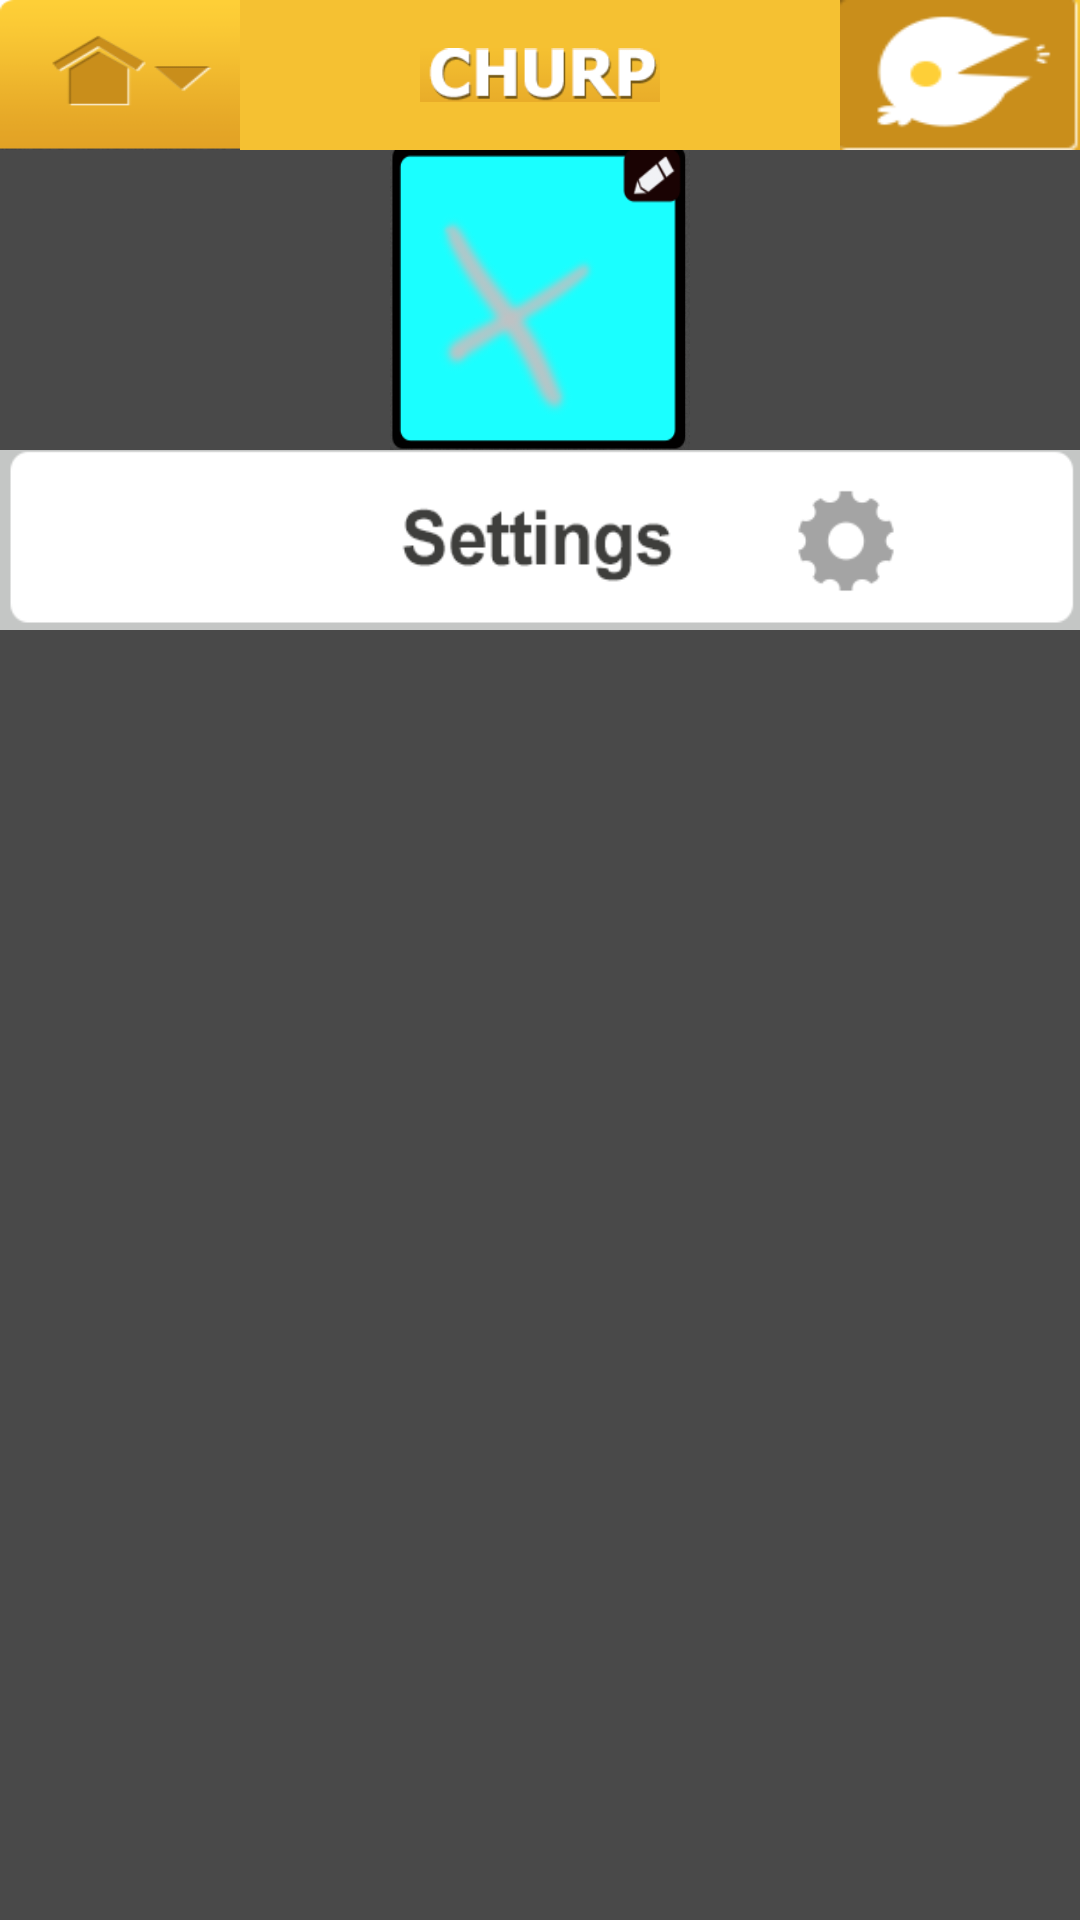

Locate icon controls on the screen. Image size 1080x1920, boxes as box(x1, y1, x2, y2).
churp: box(840, 0, 1080, 150)
